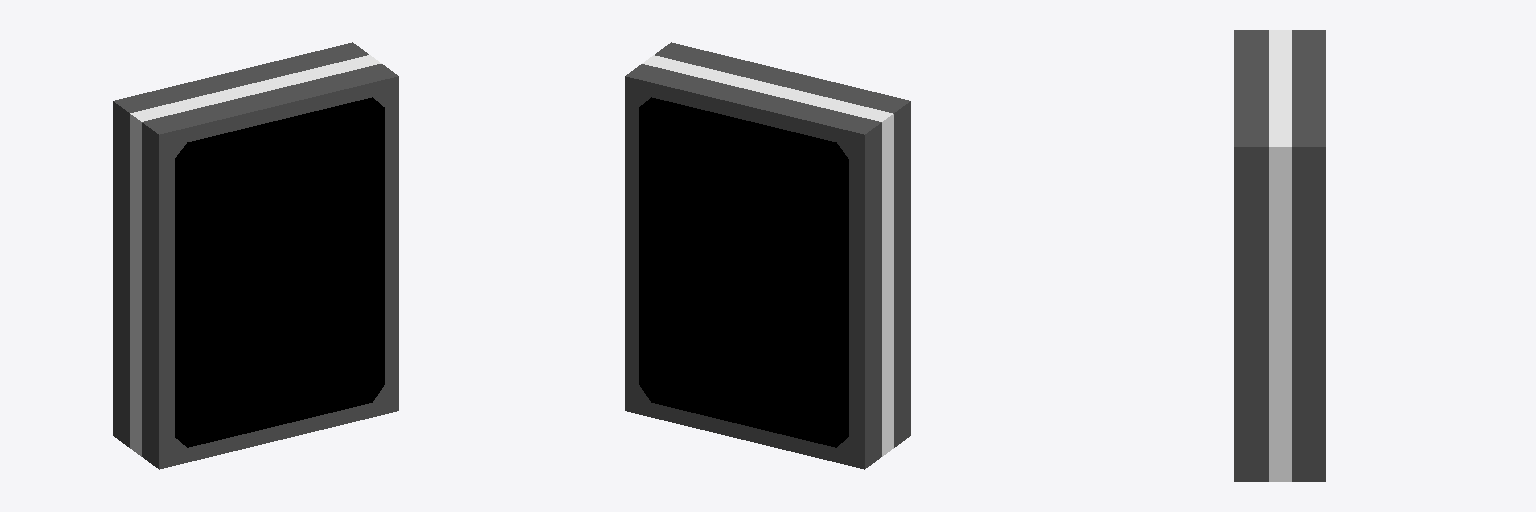
Rendered from Main 1.obj.
3 views of the same model, side by side, from view 1: azimuth 30°, elevation 25°; view 2: azimuth 150°, elevation 25°; view 3: azimuth 270°, elevation 25° (orthographic).
Parts seen in each view (by area): view 1: Main; view 2: Main; view 3: Main.
Boxes of the visible parts, x1,y1,x2,y2 form: Main: [113, 42, 398, 469]; Main: [625, 42, 910, 469]; Main: [1234, 30, 1325, 481].
Size of the model in its own units: 1.5 by 2 by 0.5.